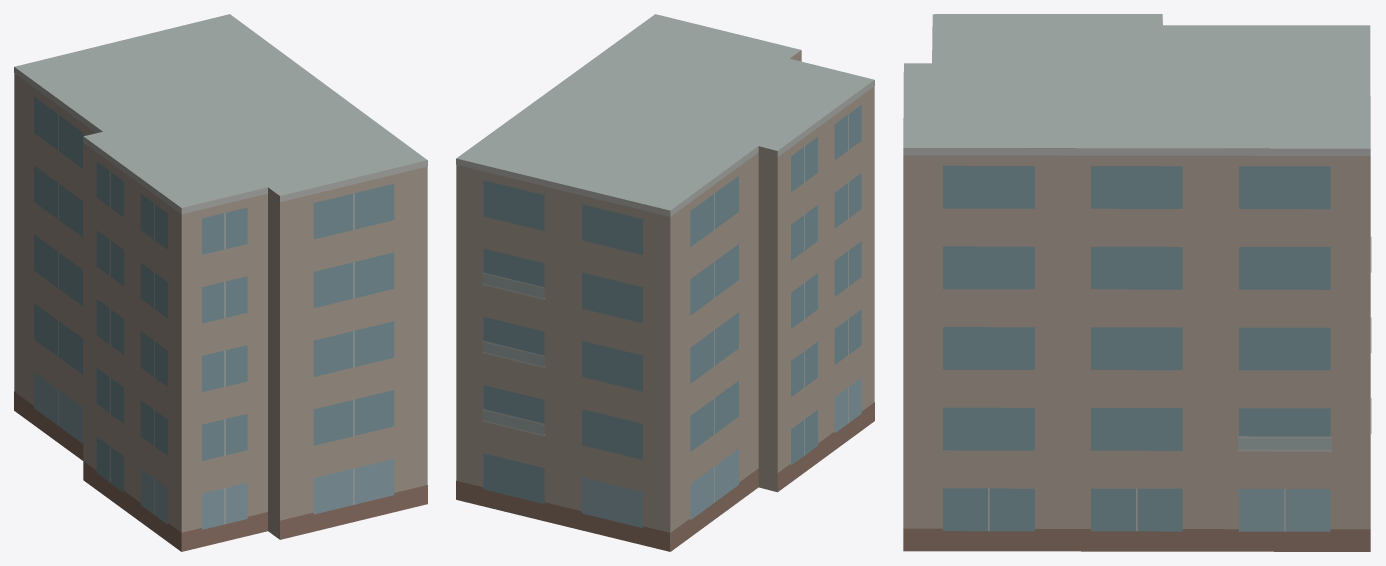
File: survey-upis-32671928.glb
The picture shows the model from 3 angles, left to right: view 1: azimuth 30°, elevation 25°; view 2: azimuth 150°, elevation 25°; view 3: azimuth 270°, elevation 25°; orthographic projection. The views are drawn at different scales.
Visible parts, largest first — view 1: survey-upis-32671928.tmp; view 2: survey-upis-32671928.tmp; view 3: survey-upis-32671928.tmp.
Boxes of the visible parts, x1,y1,x2,y2 form: survey-upis-32671928.tmp: (14,14,427,551); survey-upis-32671928.tmp: (456,14,874,551); survey-upis-32671928.tmp: (903,14,1371,551).
Size of the model in its own units: 9.56 by 13.3 by 14.01.
